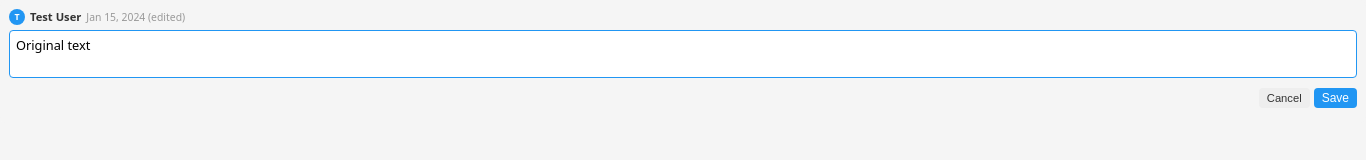
Test case: CommentThread › edit functionality › cancels edit on Cancel button
Earlier steps of the test are not shown.
Replace the text in the text box showing "Original text" with "Changed text" at (683, 54), box [9,30,1357,78]
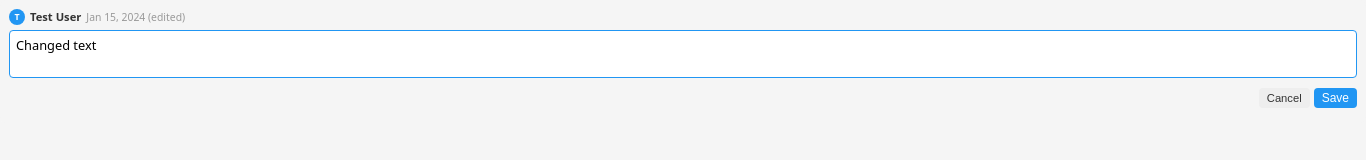
Click the button "Cancel" at (1284, 98), box [1259,88,1310,108]
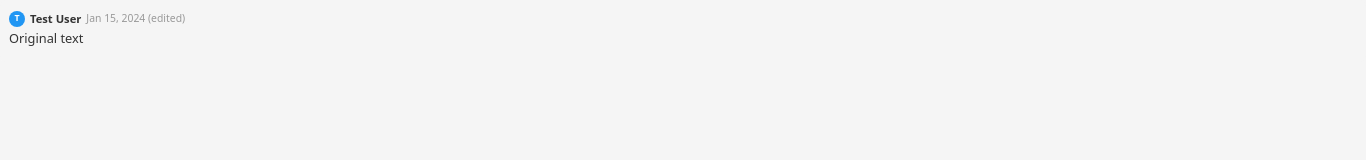
Expected: the field showing "Changed text" is not shown
Expected: the text "Original text" is shown, [9,29,84,47]
